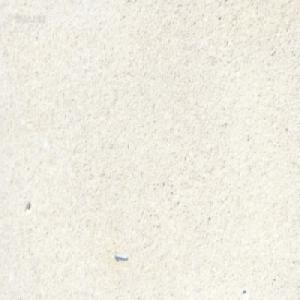Nail: (113, 250, 127, 260)
